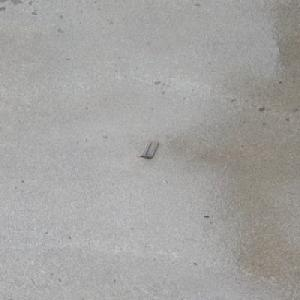MetalPart: (135, 140, 161, 159)
